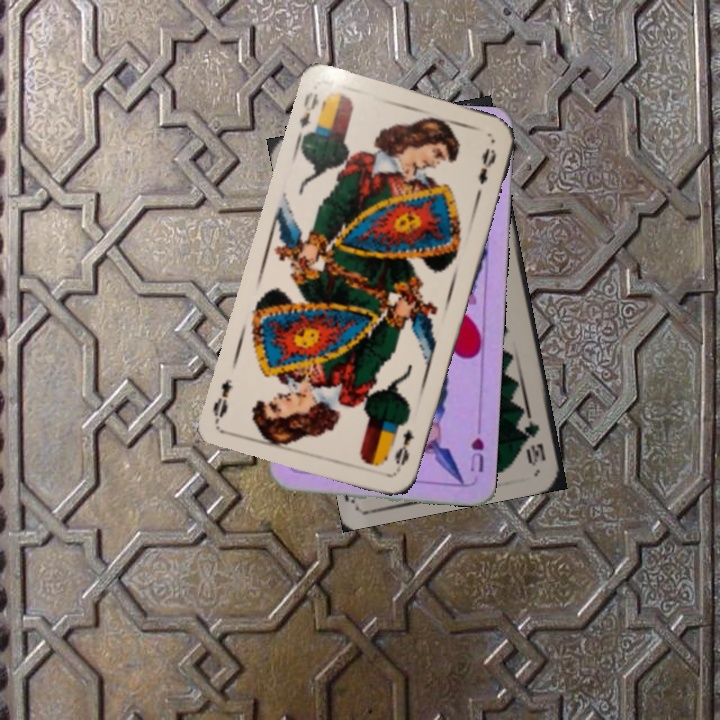EO: (293, 88, 328, 143), (390, 425, 417, 474)
G10: (517, 408, 549, 468)
HU: (466, 434, 487, 475)
